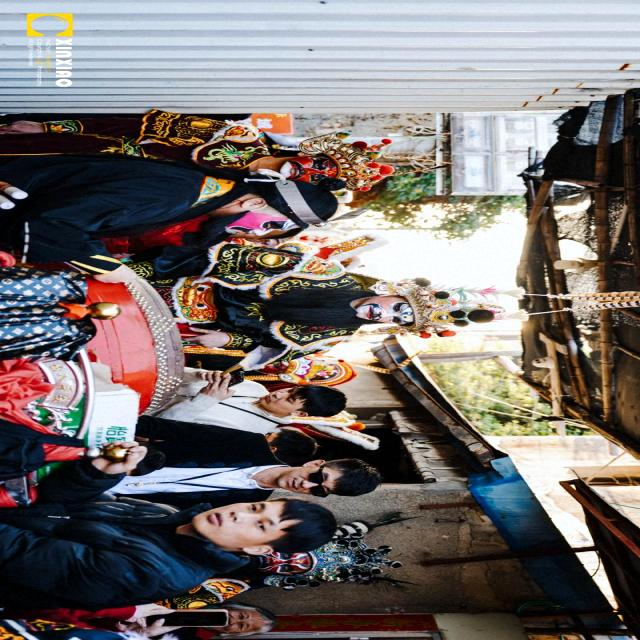Reeves-s Pheasant: (557, 288, 640, 321)
